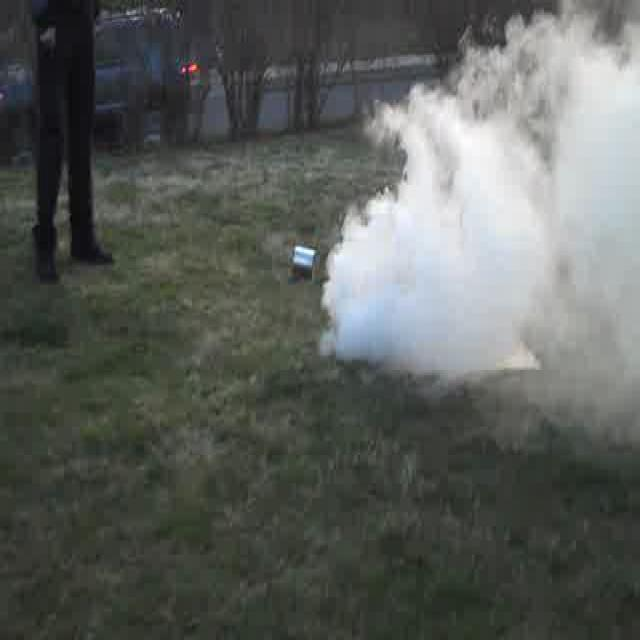Smoke: (359, 75, 634, 387)
